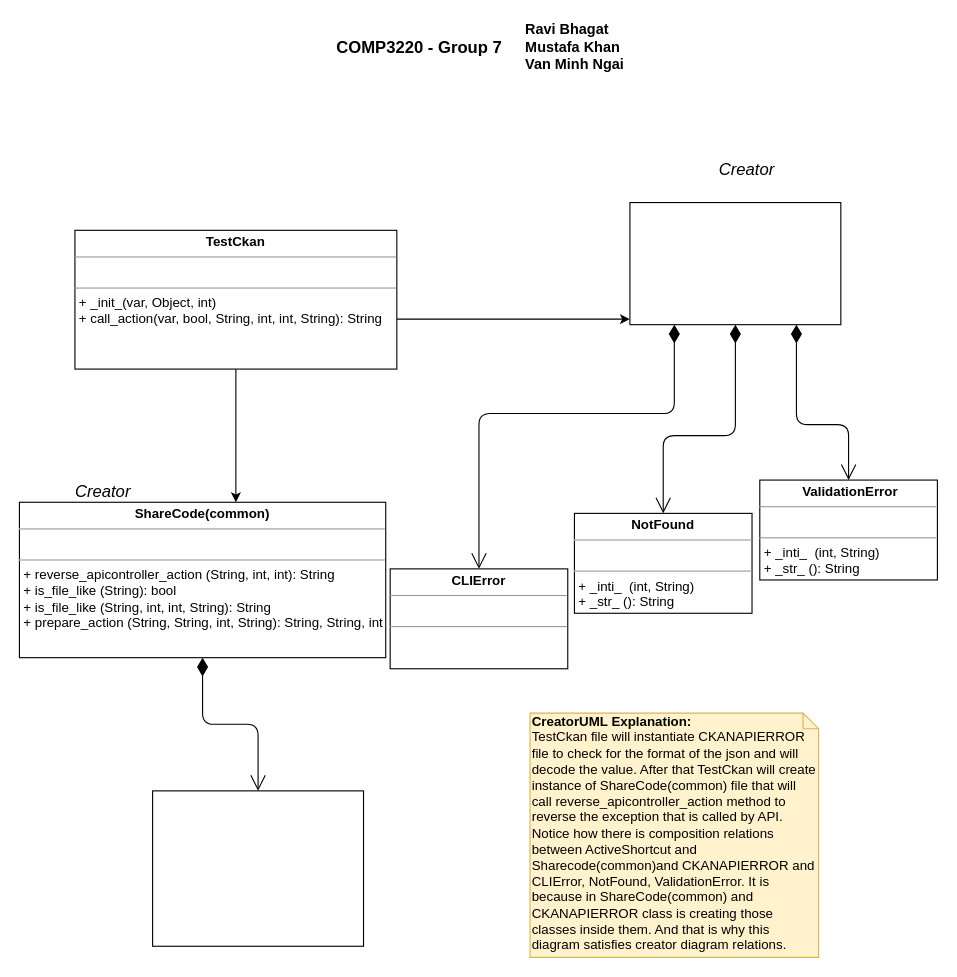
The diagram is 957 pixels wide and 977 high, and some of its shapes have lost their labels. The shapes that lost their labels are listed below. From the top down, each one's centre as x and y in pixels, then its label:
At [735,263]: "CKANAPIERROR + _init_ (var, String) + _str_ (var): String".
At [258,868]: "ActionShortcut + _init_ (var, String) + _getattr_ (var, String)".
